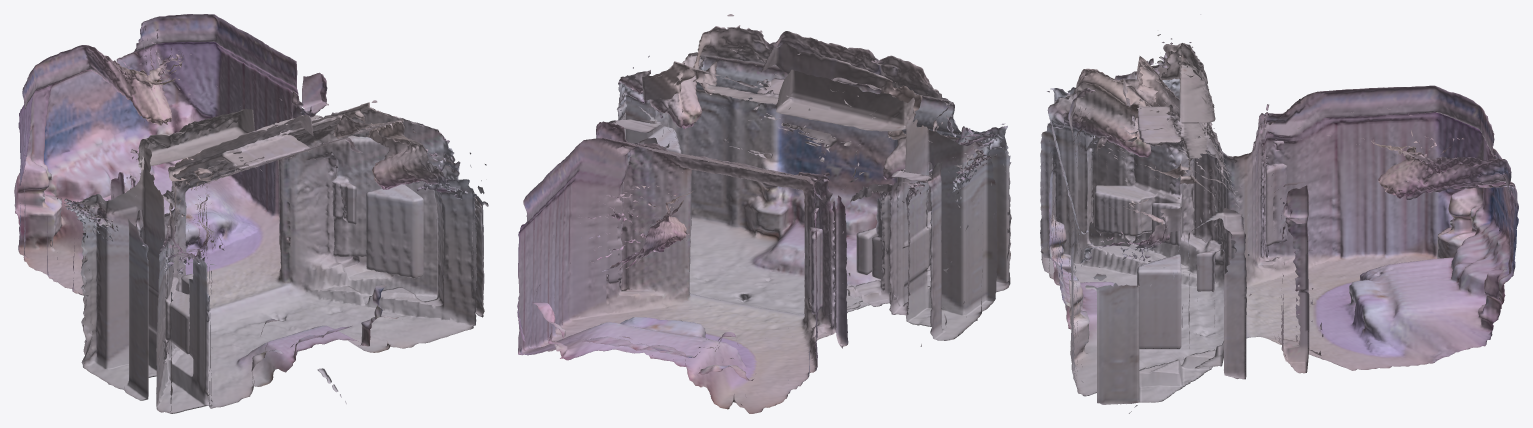
Rendered from swan-lake-suite-1-1-1004_collider.glb.
The picture shows the model from 3 angles, left to right: view 1: azimuth 30°, elevation 25°; view 2: azimuth 150°, elevation 25°; view 3: azimuth 270°, elevation 25°; orthographic projection.
Visible parts, largest first — view 1: world; view 2: world; view 3: world.
Part boxes in pixels (x1,y1,x2,y2): world: (14, 14, 488, 413); world: (517, 14, 1011, 413); world: (1040, 14, 1518, 413).
Size of the model in its own units: 8.07 by 5.63 by 8.16.
